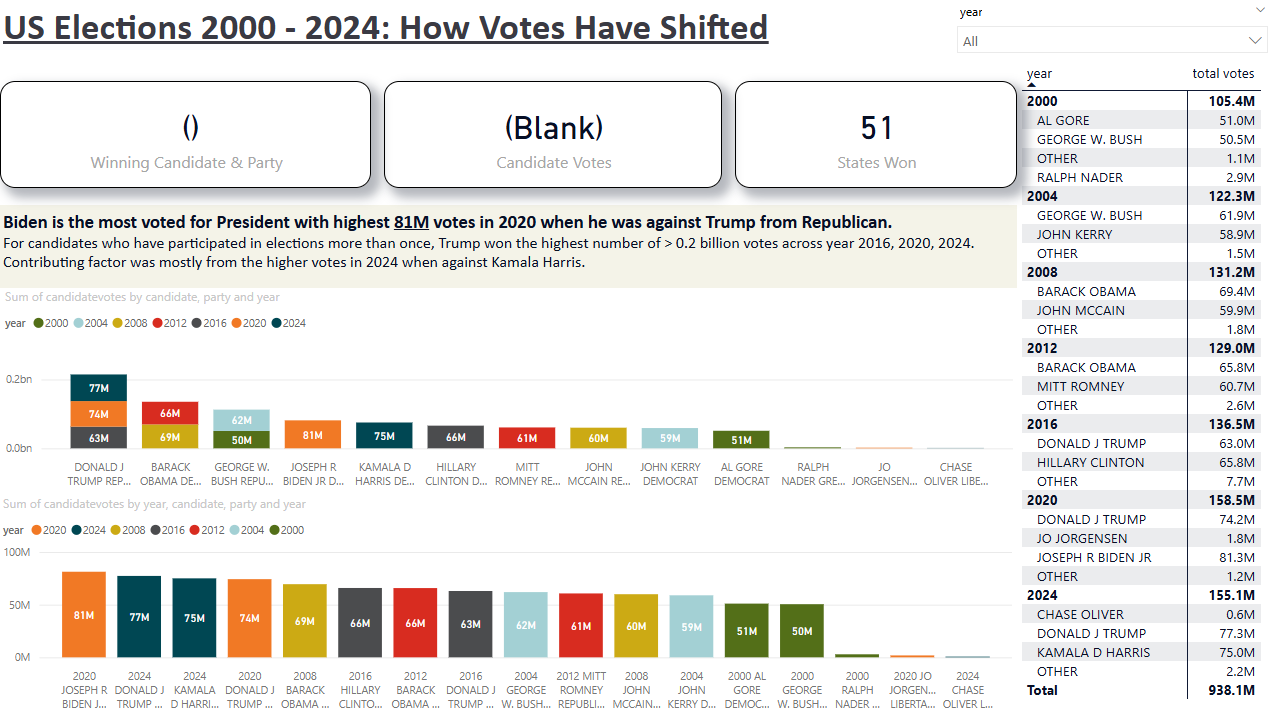

The dashboard page shown, as its layout file describes it:
{"tool":"powerbi","page":{"name":"National Level_2","canvas":[1280,720],"ordinal":1},"visuals":[{"type":"columnChart","fields":{"Category":["countypres_2000-2024.year","countypres_2000-2024.candidate","countypres_2000-2024.party"],"Y":["countypres_2000-2024.candidatevotes"],"Series":["countypres_2000-2024.year"]},"box":[0,496.6,1018.6,223.7],"z":0},{"type":"columnChart","fields":{"Category":["countypres_2000-2024.candidate","countypres_2000-2024.party"],"Y":["countypres_2000-2024.candidatevotes"],"Series":["countypres_2000-2024.year"]},"box":[1.7,289.8,1018.6,206.8],"z":1000},{"type":"textbox","box":[0,0,1267,81.8],"z":2000},{"type":"textbox","box":[0,206.8,1018.6,83.1],"z":3000},{"type":"pivotTable","fields":{"Rows":["countypres_2000-2024.year","countypres_2000-2024.candidate"],"Values":["countypres_2000-2024.candidatevotes"]},"box":[1019,59.7,260.3,660.3],"z":4000},{"type":"card","fields":{"Values":["countypres_2000-2024.Winning Candidate & Party"]},"box":[1.7,83.1,371.2,106.8],"z":5000},{"type":"card","fields":{"Values":["countypres_2000-2024.Candidate Votes"]},"box":[386.4,83.1,337.3,106.8],"z":6000},{"type":"card","fields":{"Values":["countypres_2000-2024.States Won Over Time"]},"box":[737.3,83.1,281.4,106.8],"z":7000},{"type":"slicer","fields":{"Values":["countypres_2000-2024.year"]},"box":[949.2,0,330.8,61.5],"z":8000}]}

Visuals, with their boxes in screenshot pixels (x1, y1, x2, y2), scaled from the page's 1280x720 canvas onto the 1273x715 screenshot:
columnChart - countypres_2000-2024.year x countypres_2000-2024.candidate: box=[0, 493, 1013, 714]
columnChart - countypres_2000-2024.candidate x countypres_2000-2024.party: box=[2, 288, 1015, 493]
textbox: box=[0, 0, 1260, 81]
textbox: box=[0, 205, 1013, 288]
pivotTable - countypres_2000-2024.year x countypres_2000-2024.candidate: box=[1013, 59, 1272, 714]
card - countypres_2000-2024.Winning Candidate & Party: box=[2, 83, 371, 189]
card - countypres_2000-2024.Candidate Votes: box=[384, 83, 720, 189]
card - countypres_2000-2024.States Won Over Time: box=[733, 83, 1013, 189]
slicer - countypres_2000-2024.year: box=[944, 0, 1272, 61]
